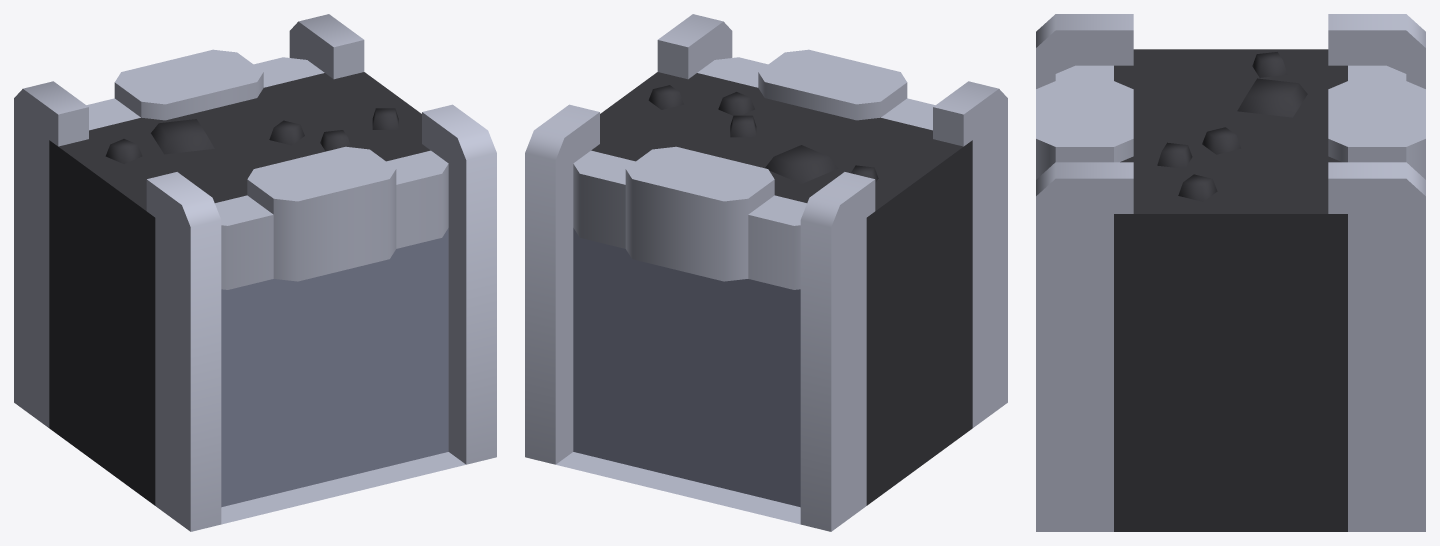
File: wall-narrow.dae
The picture shows the model from 3 angles, left to right: view 1: azimuth 30°, elevation 25°; view 2: azimuth 150°, elevation 25°; view 3: azimuth 270°, elevation 25°; orthographic projection. The views are drawn at different scales.
Parts seen in each view (by area): view 1: wall-narrow; view 2: wall-narrow; view 3: wall-narrow.
Boxes of the visible parts, x1,y1,x2,y2 form: wall-narrow: (14,14,496,531); wall-narrow: (525,14,1007,531); wall-narrow: (1036,14,1425,531).
Size of the model in its own units: 1 by 1 by 1.
